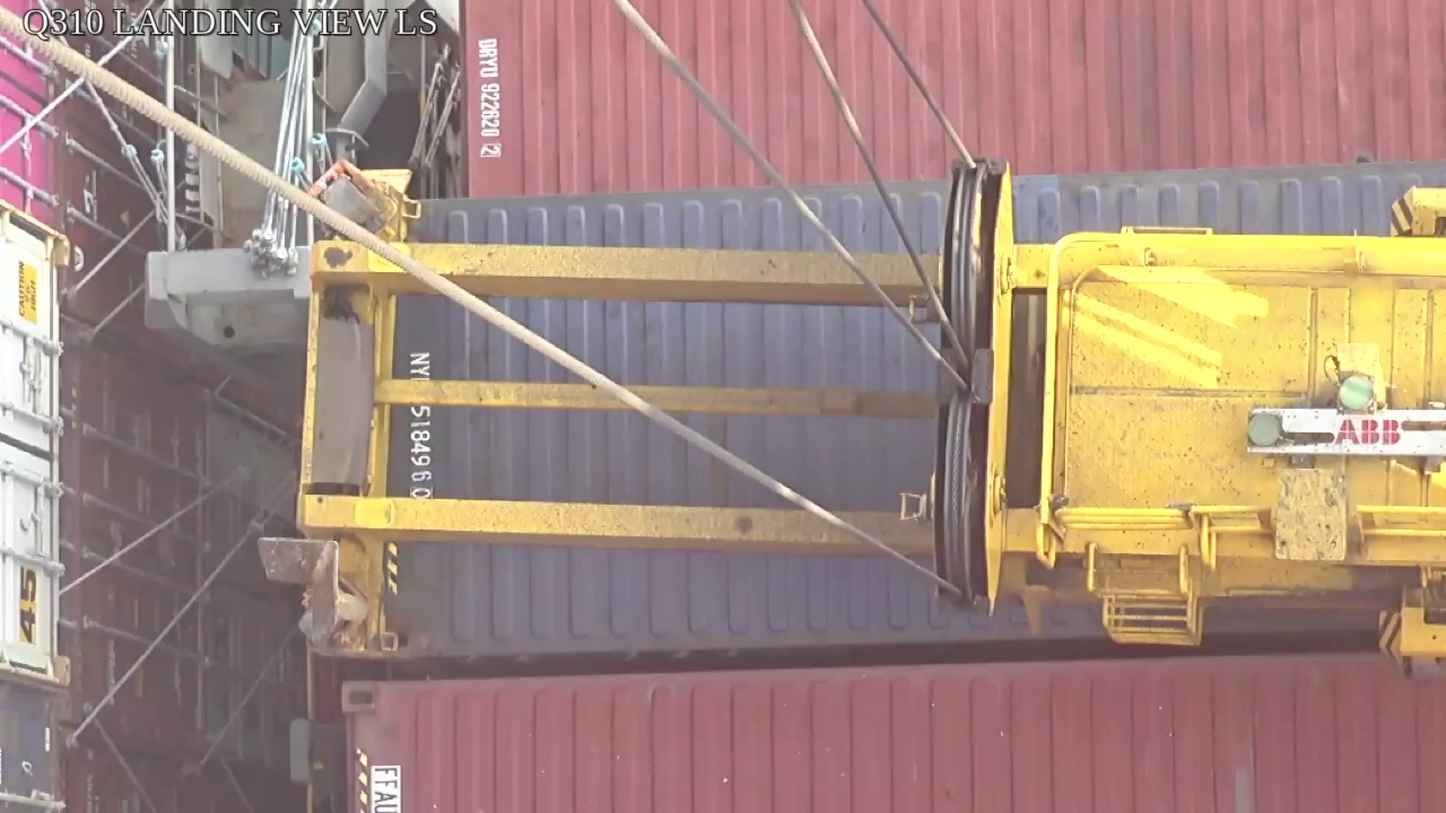aa: (938, 160, 1011, 621)
